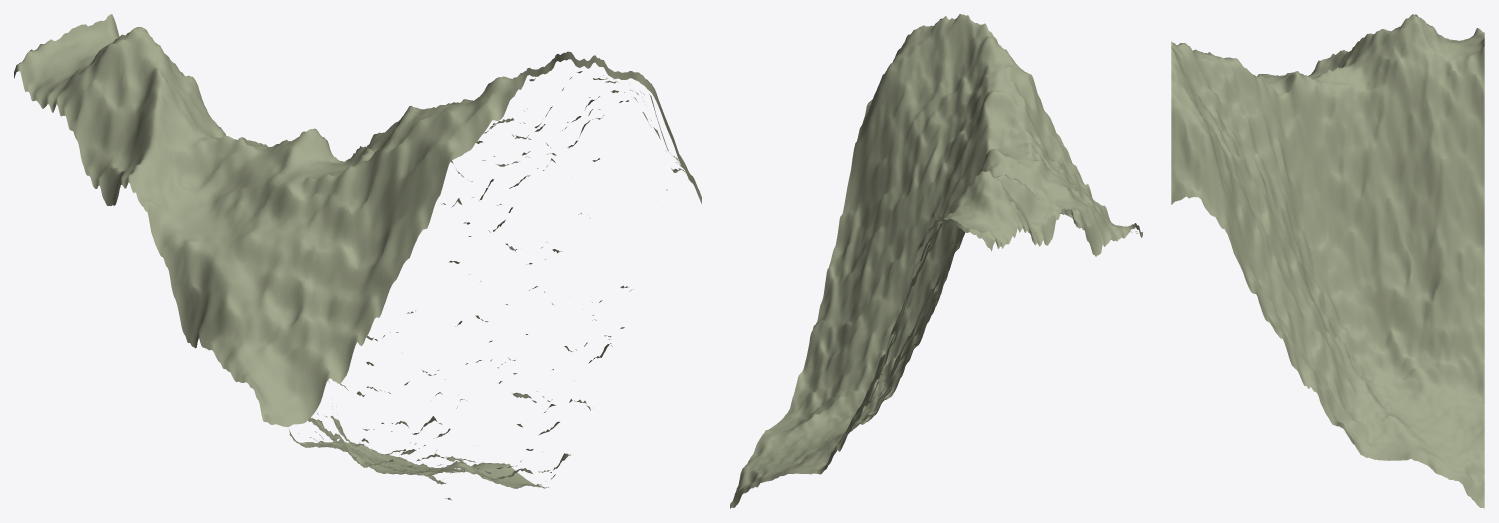
Rendered from terrain_r0_c0_lod0.glb.
The picture shows the model from 3 angles, left to right: view 1: azimuth 30°, elevation 25°; view 2: azimuth 150°, elevation 25°; view 3: azimuth 270°, elevation 25°; orthographic projection. The views are drawn at different scales.
Parts seen in each view (by area): view 1: terrain_r0_c0; view 2: terrain_r0_c0; view 3: terrain_r0_c0.
Part boxes in pixels (<box>): terrain_r0_c0: <box>14,14,701,500</box>; terrain_r0_c0: <box>730,14,1142,508</box>; terrain_r0_c0: <box>1171,14,1484,508</box>.
Bounding box in the file's own units: 50 × 73.82 × 50.
